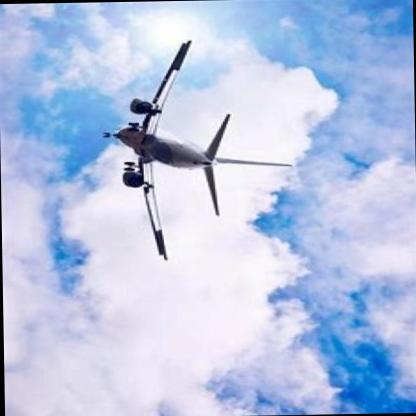plane: (86, 36, 311, 264)
